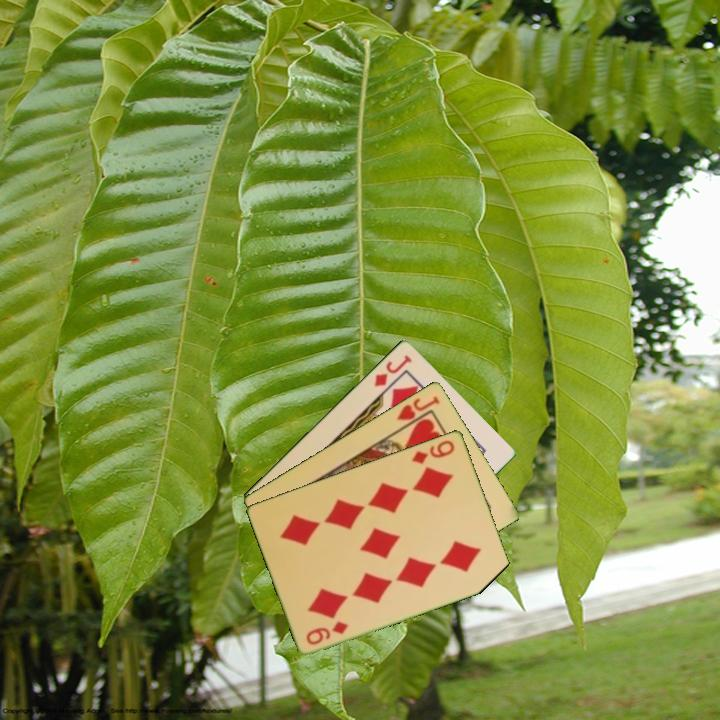9d: (408, 436, 458, 466), (303, 617, 351, 647)
Jd: (370, 351, 415, 389)
Jh: (393, 392, 443, 423)
